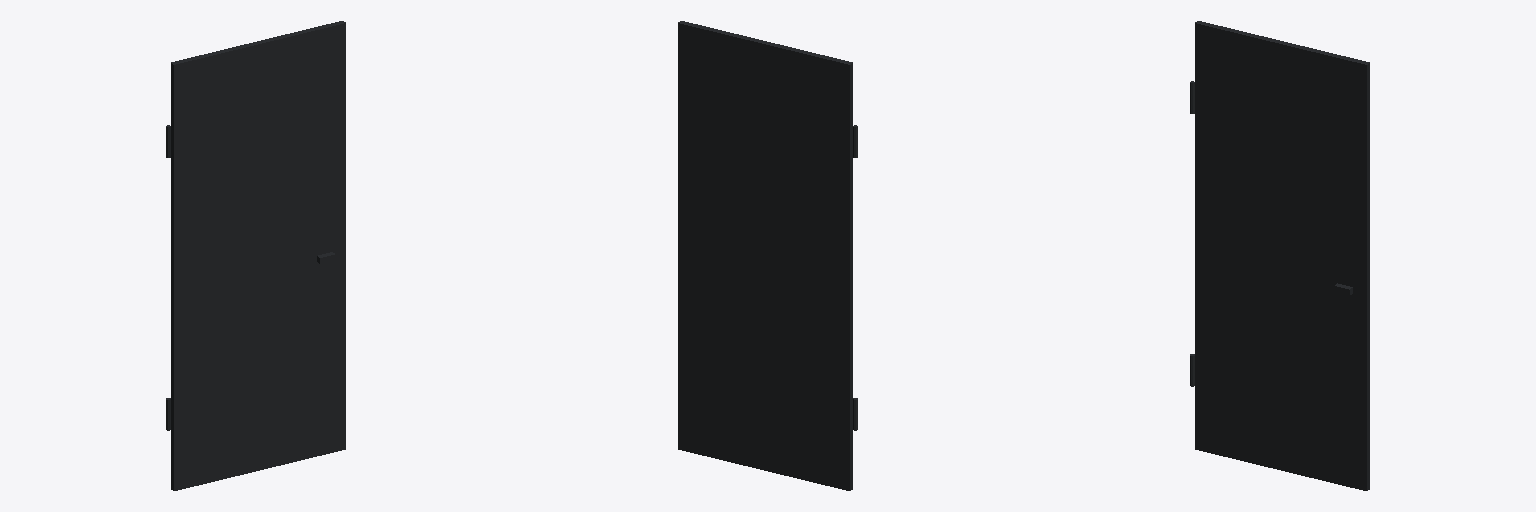
The robot description file, URDF, robot "nova_environment_object_0126":
<?xml version="1.0" encoding="utf-8"?>
<!-- Nova movable environment body for the bundled PyBullet launcher. SI metres/kg/radians. Loaded at its body origin; hinge/slider bodies use a fixed world_anchor base with one passive joint. Inertia is about COM. -->
<robot name="nova_environment_object_0126">
  <link name="world_anchor">
    <inertial>
      <mass value="0" />
      <inertia ixx="0" iyy="0" izz="0" ixy="0" ixz="0" iyz="0" />
    </inertial>
  </link>
  <joint name="joint" type="revolute">
    <parent link="world_anchor" />
    <child link="body" />
    <origin xyz="0 0 0" rpy="0 0 0" />
    <axis xyz="0 0 -1" />
    <limit lower="0" upper="1.5" effort="1000" velocity="10" />
    <dynamics damping="0.6" friction="0.3" />
  </joint>
  <link name="body">
    <inertial>
      <origin xyz="0.46 0 0" rpy="0 0 0" />
      <mass value="25" />
      <inertia ixx="9.01520833" iyy="10.6266667" izz="1.61520833" ixy="0" ixz="0" iyz="0" />
    </inertial>
    <visual>
      <origin xyz="0 0 0" rpy="0 0 0" />
      <geometry>
        <mesh filename="object_0126.obj" />
      </geometry>
      <material name="surface">
        <color rgba="0.2 0.21 0.22 1" />
      </material>
    </visual>
    <collision>
      <origin xyz="0 0 0" rpy="0 0 0" />
      <geometry>
        <mesh filename="object_0126_auto_00.obj" />
      </geometry>
    </collision>
    <collision>
      <origin xyz="0 0 0" rpy="0 0 0" />
      <geometry>
        <mesh filename="object_0126_auto_01.obj" />
      </geometry>
    </collision>
    <collision>
      <origin xyz="0 0 0" rpy="0 0 0" />
      <geometry>
        <mesh filename="object_0126_auto_02.obj" />
      </geometry>
    </collision>
    <collision>
      <origin xyz="0 0 0" rpy="0 0 0" />
      <geometry>
        <mesh filename="object_0126_auto_03.obj" />
      </geometry>
    </collision>
  </link>
</robot>

--- What the picture shows (computed from the rendered views, not written in the file) ---
The picture shows the robot from 3 angles, left to right: view 1: azimuth 30°, elevation 25°; view 2: azimuth 150°, elevation 25°; view 3: azimuth 330°, elevation 25°; orthographic projection.
Model nova_environment_object_0126 with 2 links and 1 joints (1 revolute), rooted at world_anchor, posed all joints at 0.
Visible links, largest first — view 1: body; view 2: body; view 3: body.
Link boxes in pixels (left/top/right/bottom): body: left=166, top=21, right=345, bottom=490; body: left=678, top=21, right=857, bottom=490; body: left=1190, top=21, right=1369, bottom=490.
Bounding box of the posed robot: 0.912 × 0.06 × 2.08 m (x, y, z).
Meshes: 1 distinct files referenced, 1 mesh visuals loaded (1 OBJ).
